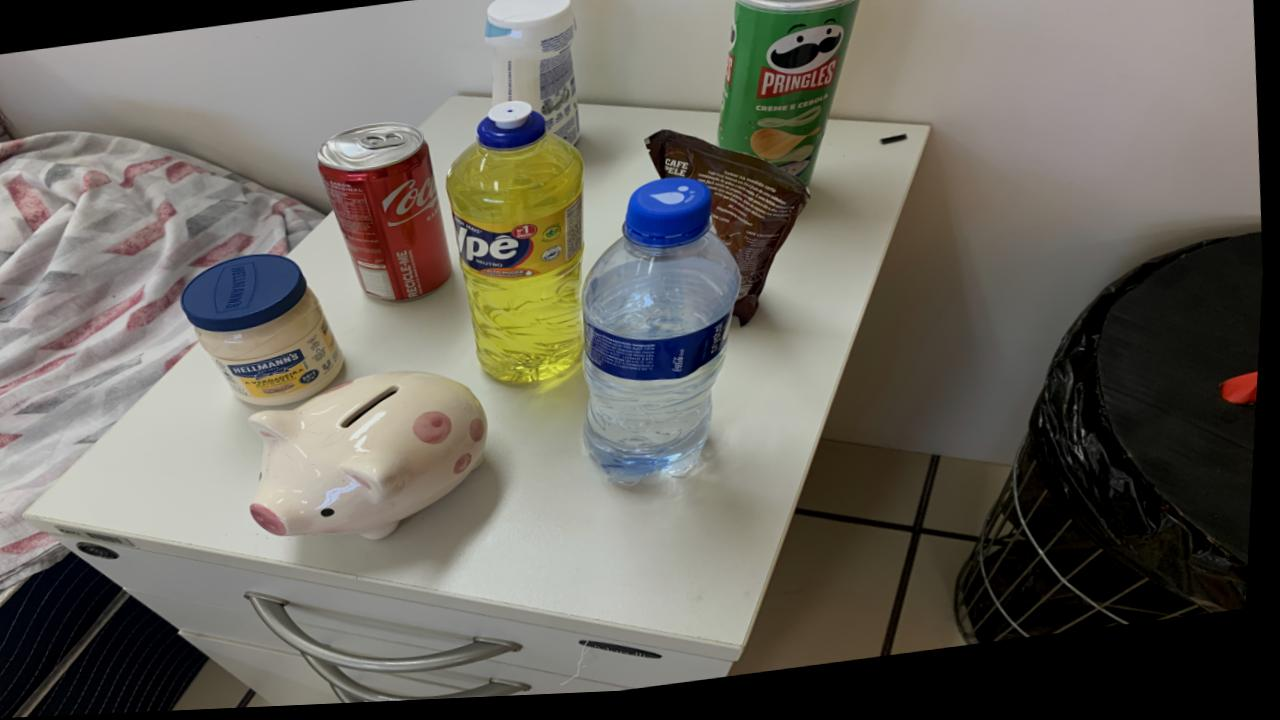Cleaner-Cleanup_Items: (485, 0, 581, 149)
Coffee-Pantry_Items: (647, 136, 813, 332)
Coke-Drinks: (318, 126, 454, 305)
Detergent-Cleanup_Items: (447, 105, 586, 388)
Mayonnaise-Pantry_Items: (184, 256, 348, 410)
Pig_Safe-Miscellaneous: (252, 375, 492, 544)
Pringles-Snacks: (719, 0, 863, 190)
Water_Bottle-Drinks: (586, 183, 744, 491)
